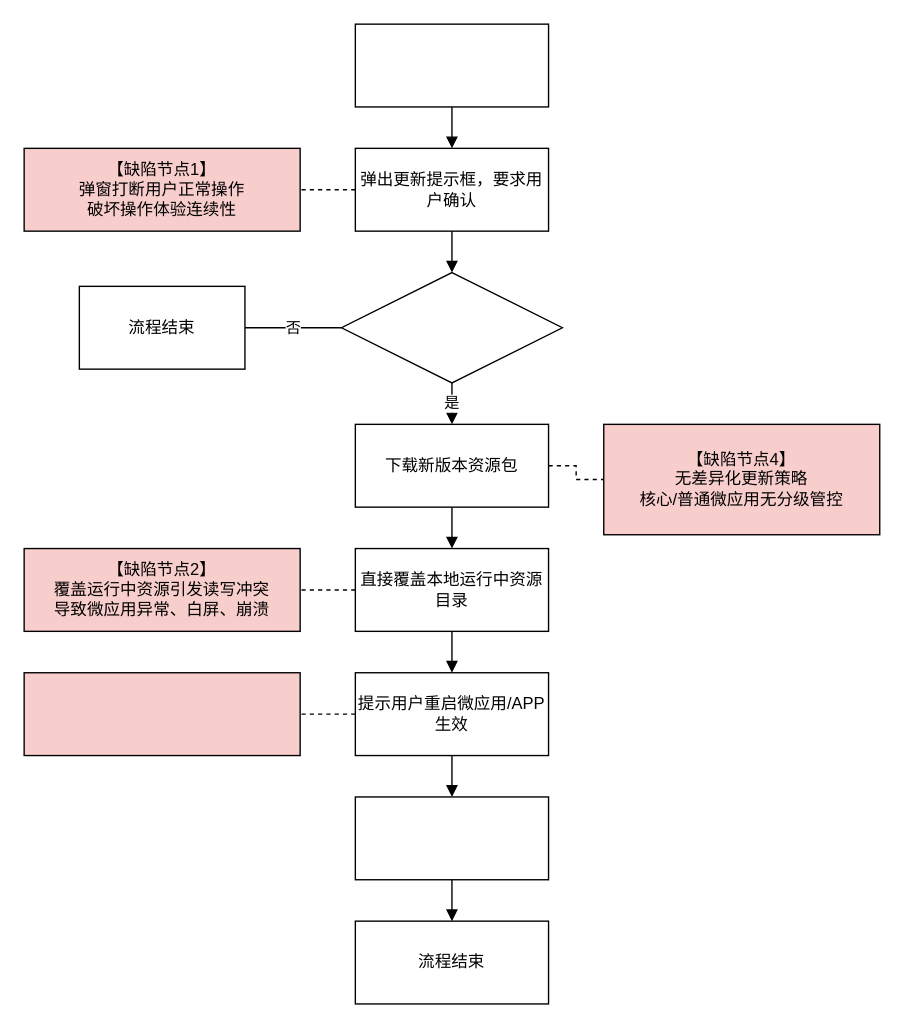
This 904x1028 diagram has some shape labels left out. Here are the shapes that lost their labels. From the top down, the centre of each, then its label:
At [451,65]: "检测微应用新版本".
At [451,327]: "用户是否确认更新？".
At [161,713]: "【缺陷节点3】 需重启应用才能生效 二次打断用户操作".
At [451,838]: "用户重启微应用后加载新版本".
